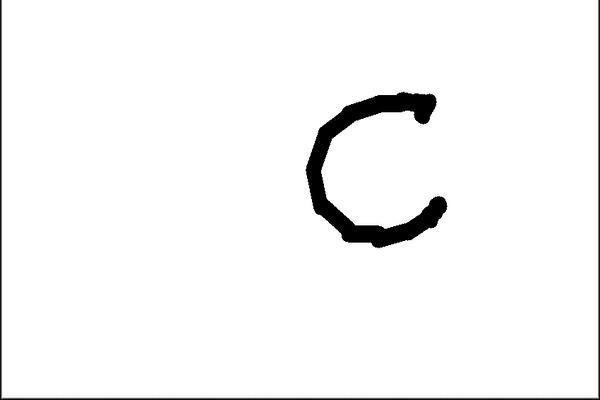C: (300, 87, 454, 250)
